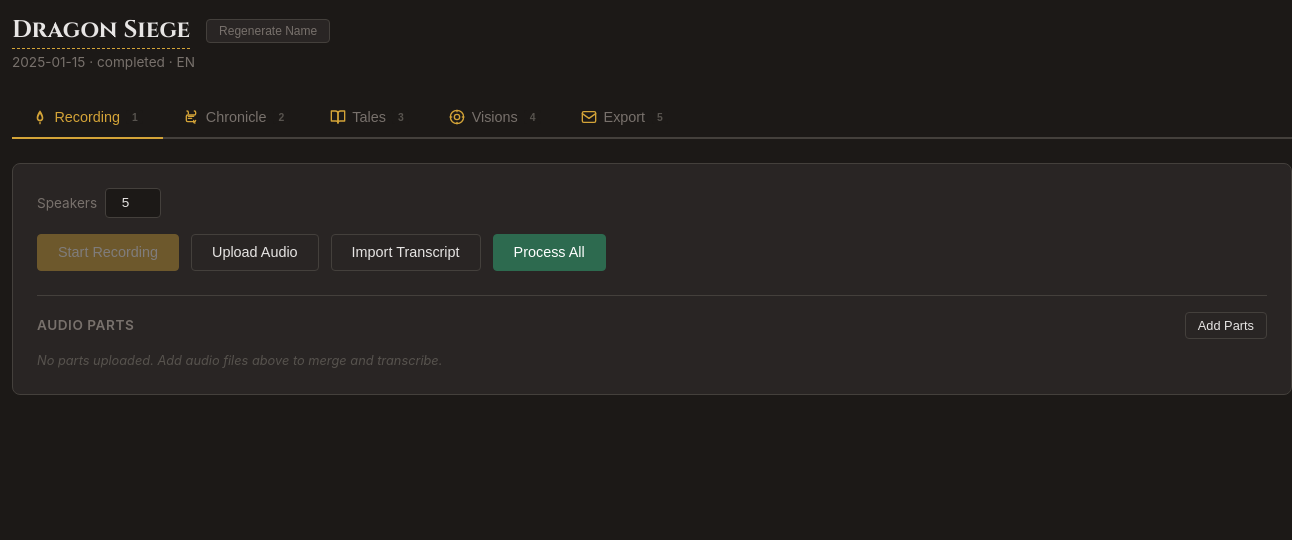
Test case: SessionDetail › shows audio player when session has audio
# Switch to transcript tab to see audio player
Click the button "Chronicle 2" at (237, 118), box [163, 97, 310, 139]
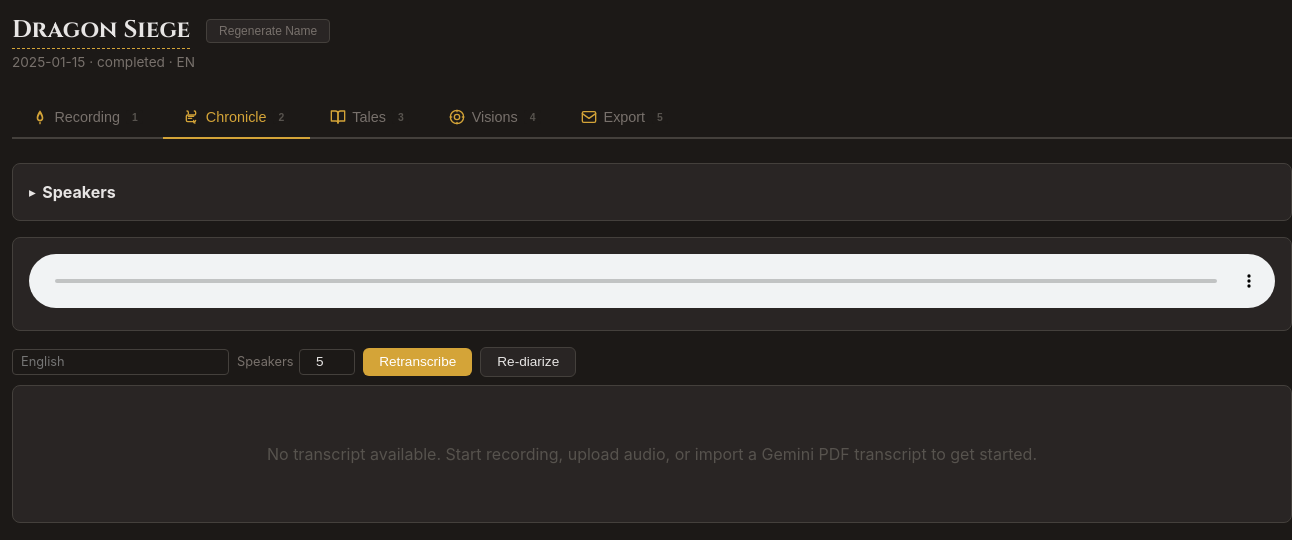
Expected: the element with class "audio-player" is shown, [12, 237, 1291, 331]
